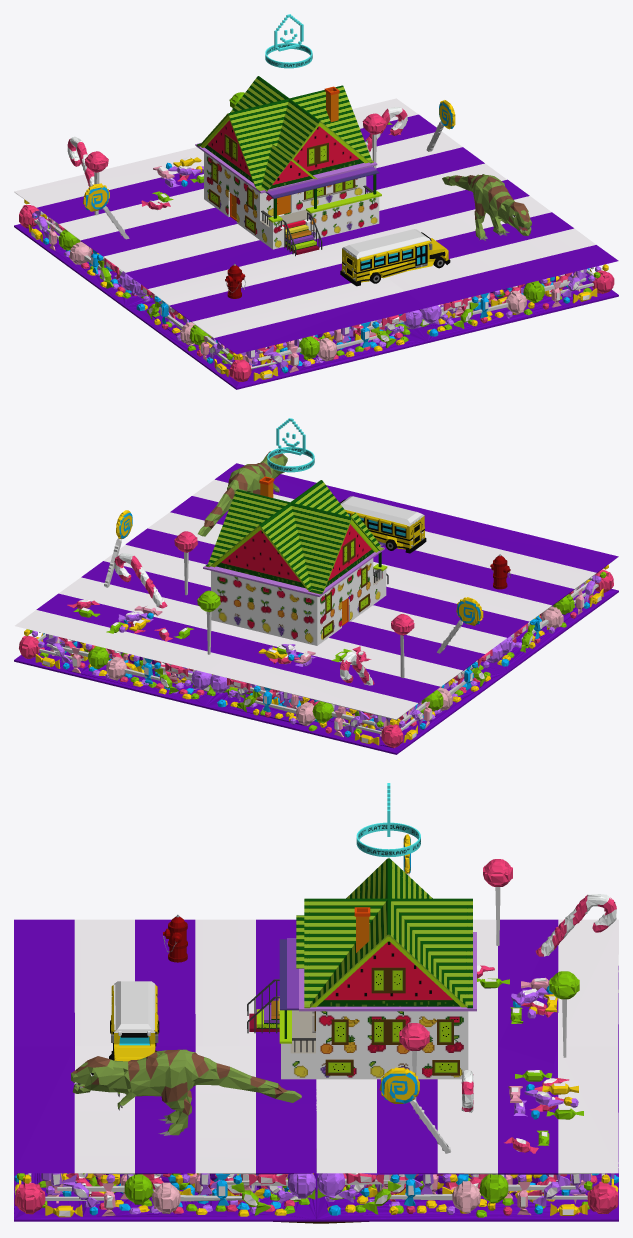
3 renders of one model, top to bottom at view 1: azimuth 30°, elevation 25°; view 2: azimuth 150°, elevation 25°; view 3: azimuth 270°, elevation 25°, orthographic. The views are drawn at different scales.
Visible parts, largest first — view 1: TERRAIN_CANDY, Cube.1063, VEHICLES_SCHOOL_BUS, ANIMAL_TREX, TYPE_PREMIUM, OBJRANDOM_FIRE_HYDRANT; view 2: TERRAIN_CANDY, Cube.1063, VEHICLES_SCHOOL_BUS, ANIMAL_TREX, TYPE_PREMIUM, OBJRANDOM_FIRE_HYDRANT; view 3: TERRAIN_CANDY, Cube.1063, ANIMAL_TREX, VEHICLES_SCHOOL_BUS, TYPE_PREMIUM, OBJRANDOM_FIRE_HYDRANT.
Part boxes in pixels (x1=…): TERRAIN_CANDY: x1=14, y1=92, x2=618, y2=389; Cube.1063: x1=195, y1=76, x2=381, y2=256; VEHICLES_SCHOOL_BUS: x1=340, y1=229, x2=450, y2=286; ANIMAL_TREX: x1=442, y1=174, x2=531, y2=240; TYPE_PREMIUM: x1=265, y1=14, x2=312, y2=68; OBJRANDOM_FIRE_HYDRANT: x1=225, y1=263, x2=245, y2=298; TERRAIN_CANDY: x1=14, y1=463, x2=618, y2=754; Cube.1063: x1=203, y1=476, x2=388, y2=645; VEHICLES_SCHOOL_BUS: x1=340, y1=496, x2=426, y2=553; ANIMAL_TREX: x1=198, y1=451, x2=287, y2=536; TYPE_PREMIUM: x1=267, y1=418, x2=314, y2=472; OBJRANDOM_FIRE_HYDRANT: x1=490, y1=554, x2=510, y2=589; TERRAIN_CANDY: x1=14, y1=834, x2=618, y2=1221; Cube.1063: x1=247, y1=858, x2=476, y2=1079; ANIMAL_TREX: x1=71, y1=1049, x2=301, y2=1135; VEHICLES_SCHOOL_BUS: x1=109, y1=981, x2=159, y2=1061; TYPE_PREMIUM: x1=356, y1=783, x2=420, y2=857; OBJRANDOM_FIRE_HYDRANT: x1=163, y1=914, x2=187, y2=962.
Bounding box in the file's own units: 4059 × 2405 × 4000.
Materials: 35 (5 with a texture image).
